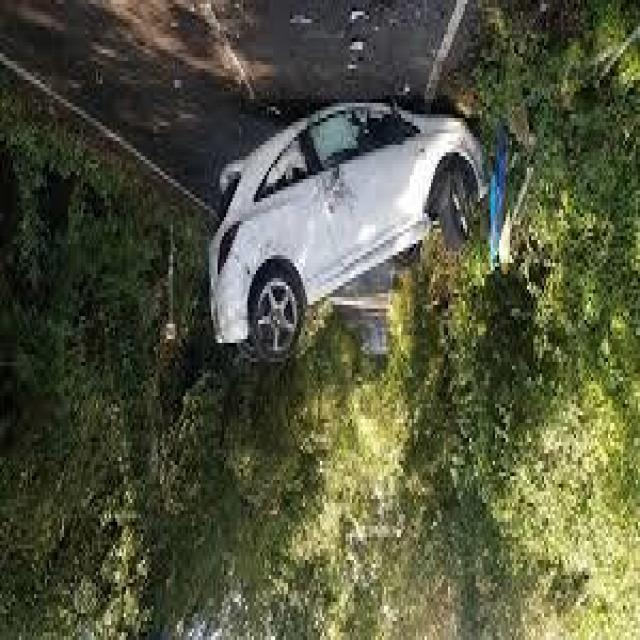severe: (204, 97, 490, 368)
